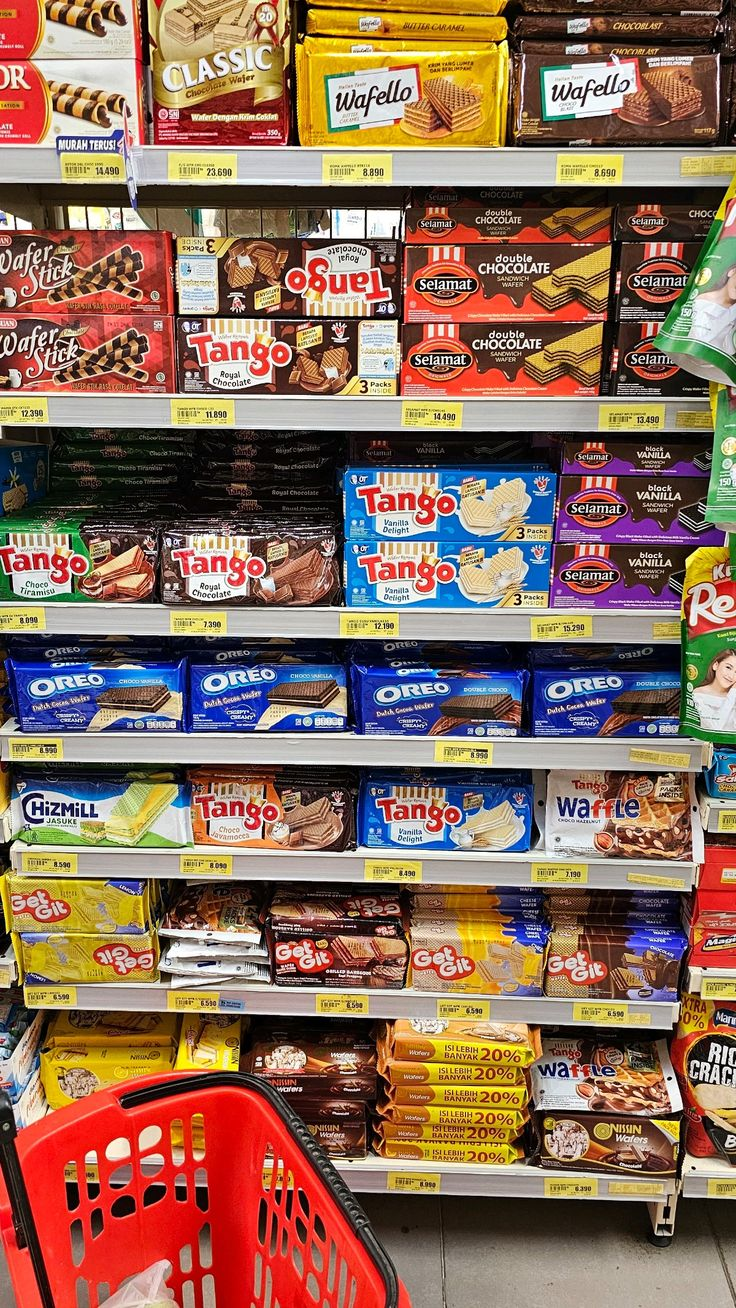Get Git: (391, 904, 504, 1017), (524, 917, 637, 1030)
Oreo: (181, 639, 300, 758)
Tango: (352, 443, 465, 556), (360, 763, 473, 876)
Wafelllo: (312, 49, 425, 162), (531, 40, 644, 153)
